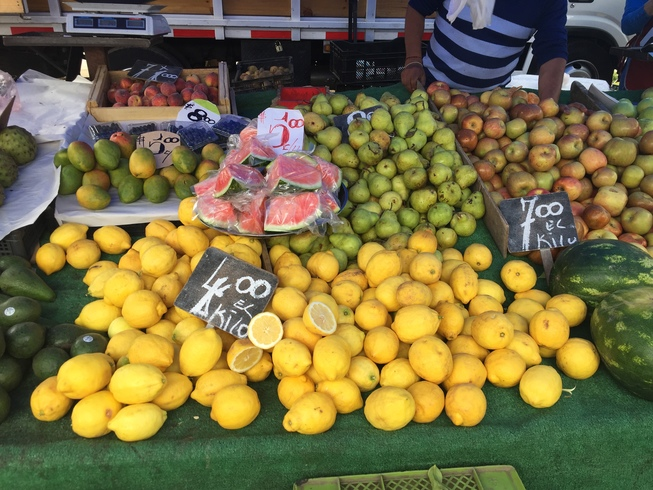precio: (177, 237, 291, 344), (497, 188, 581, 259), (253, 102, 313, 165), (177, 90, 233, 144), (125, 57, 193, 95), (333, 105, 391, 146), (138, 128, 189, 172)
